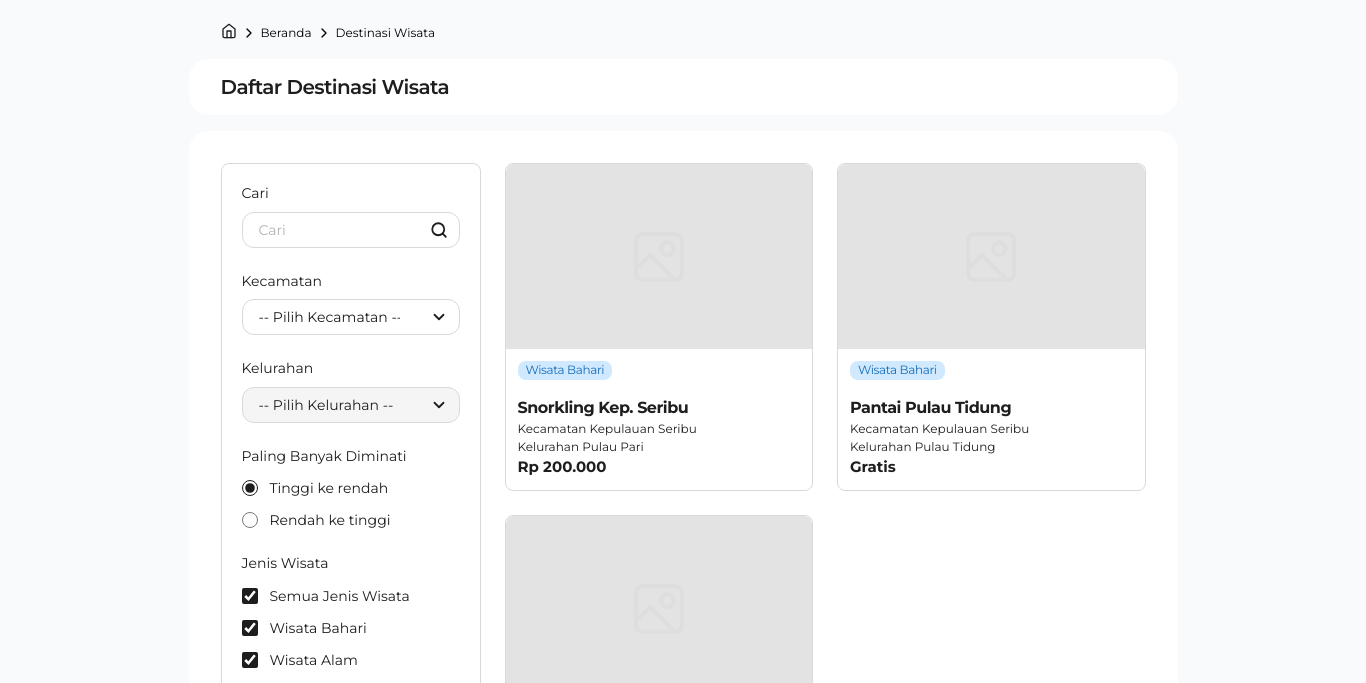
Test: PublicWisataListView › "Bersihkan Filter" resets every filter to its default
The width and height of the screenshot is (1366, 683).
Step 1. Type "gua" into the search field with test id "public-list-search" → (350, 230), box 242,212 -> 460,248
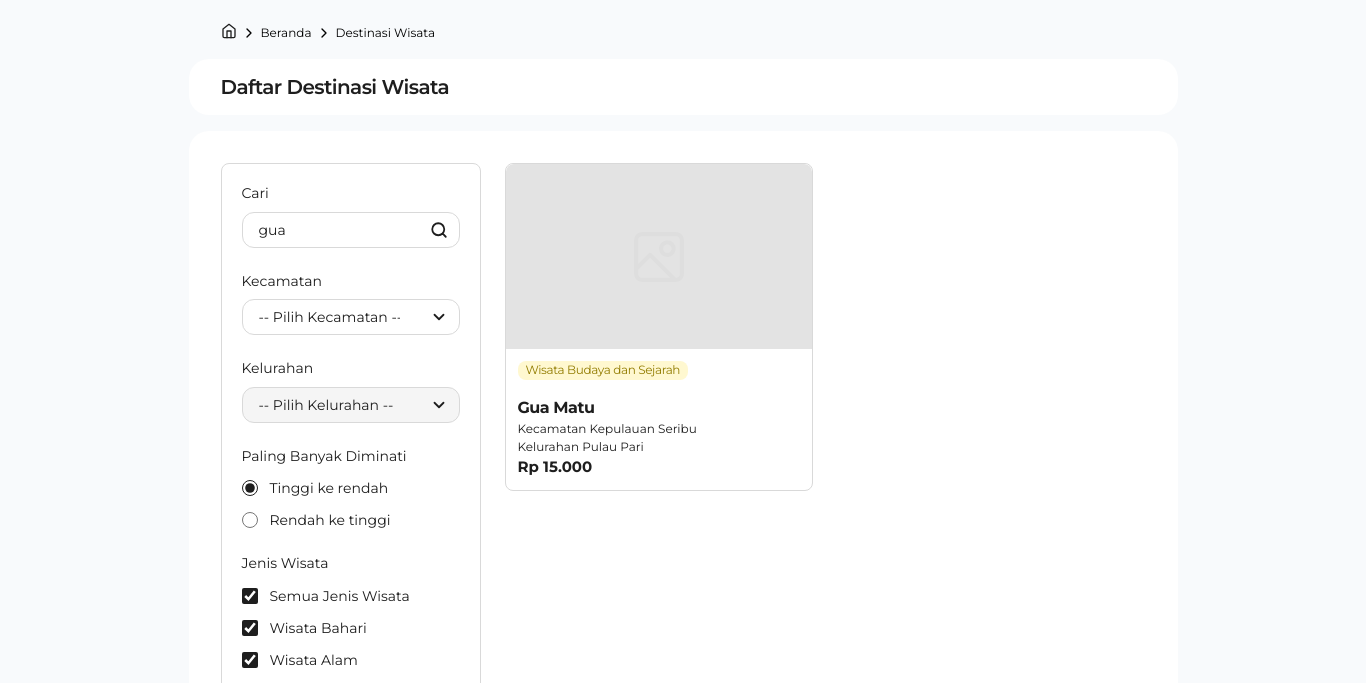
Step 2. Type "Pesisir Tengah" into the field with test id "public-list-kecamatan" → (350, 317), box 242,299 -> 460,335
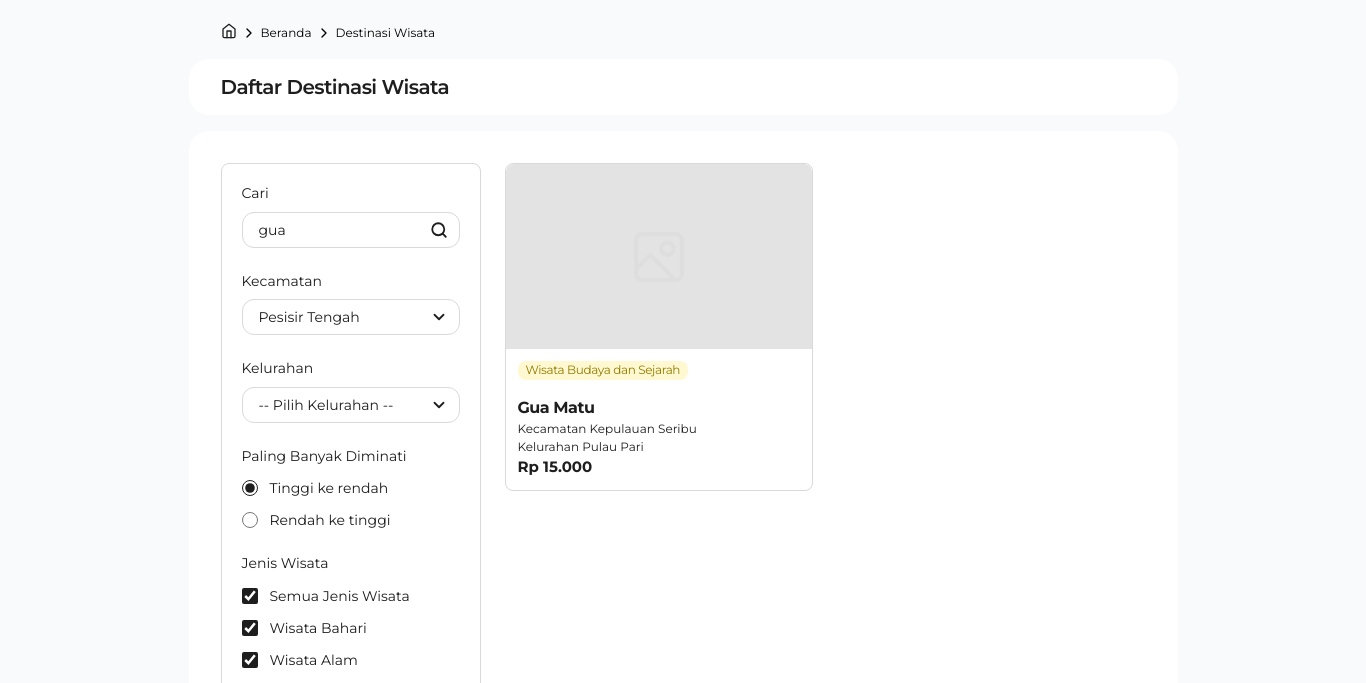
Step 3. Click the radio button with test id "public-list-popularity-asc" → (250, 520), box 242,512 -> 258,528
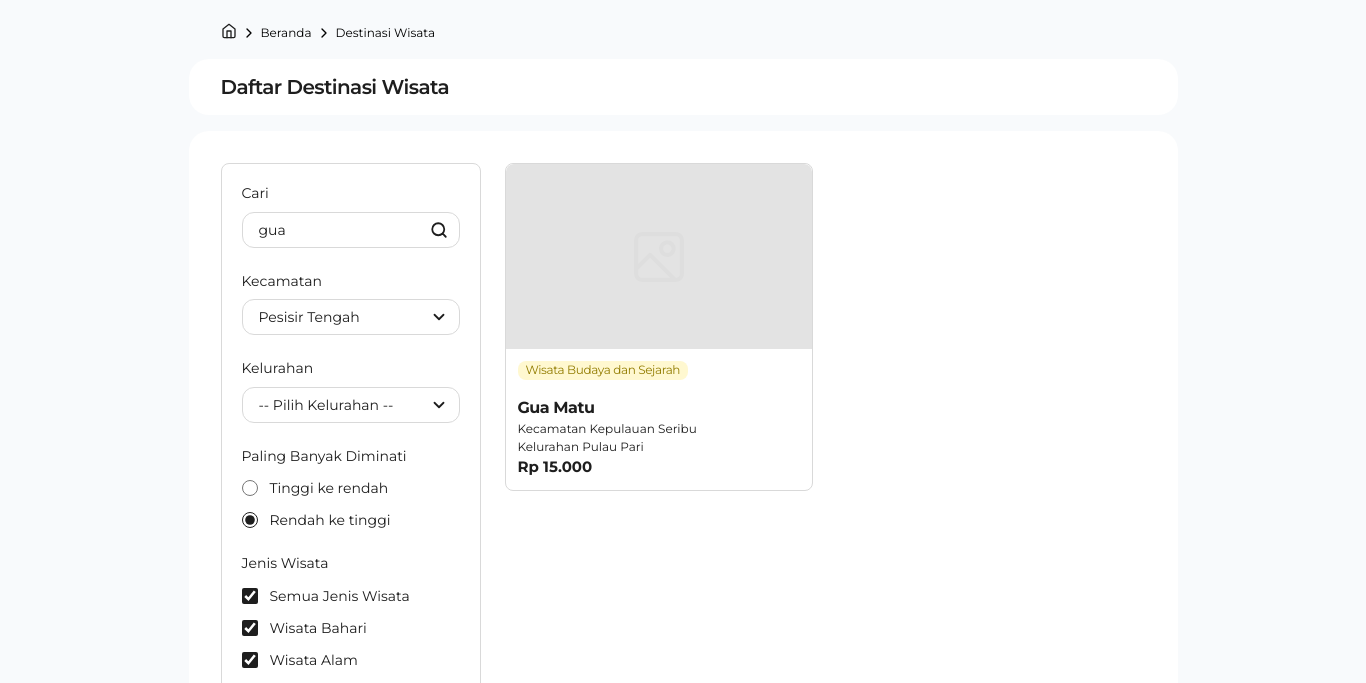
Step 4. Click the checkbox with test id "public-list-type-wisata_alam" → (250, 660), box 242,652 -> 258,668
(page scrolled)
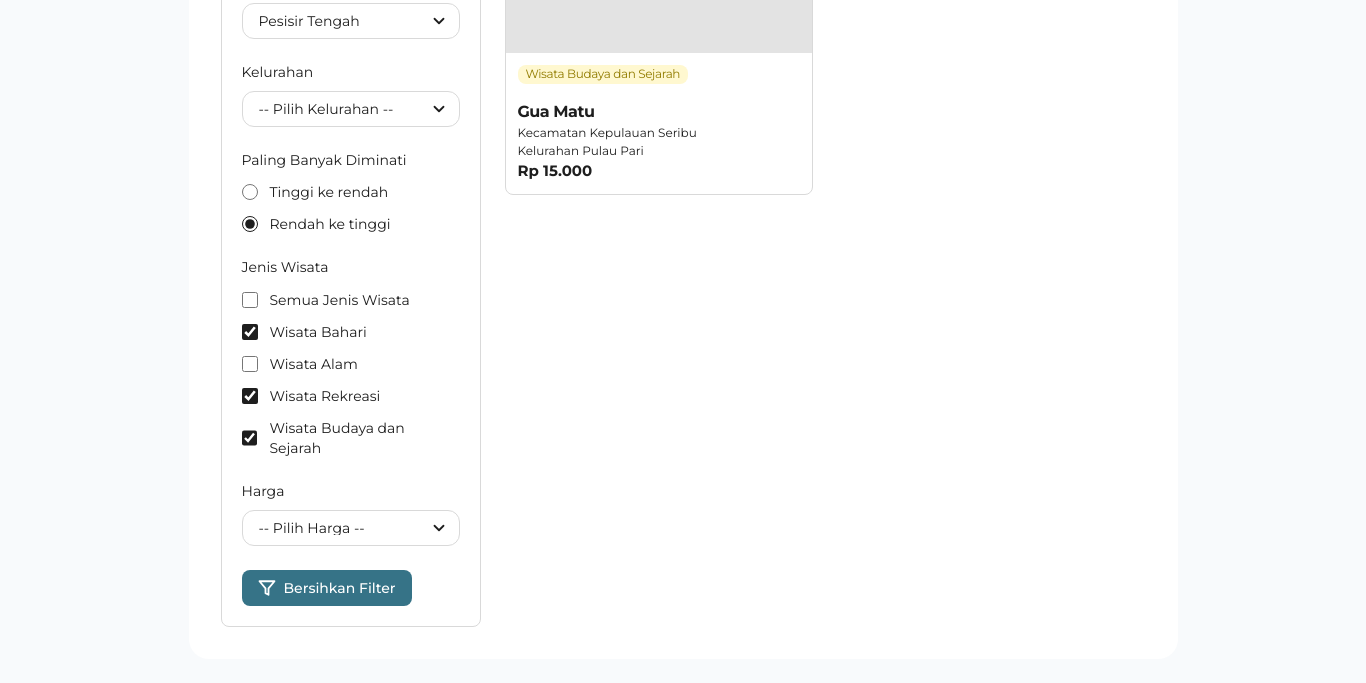
Step 5. Select "< Rp 50.000" in the dropdown with test id "public-list-harga" → (350, 528), box 242,510 -> 460,546
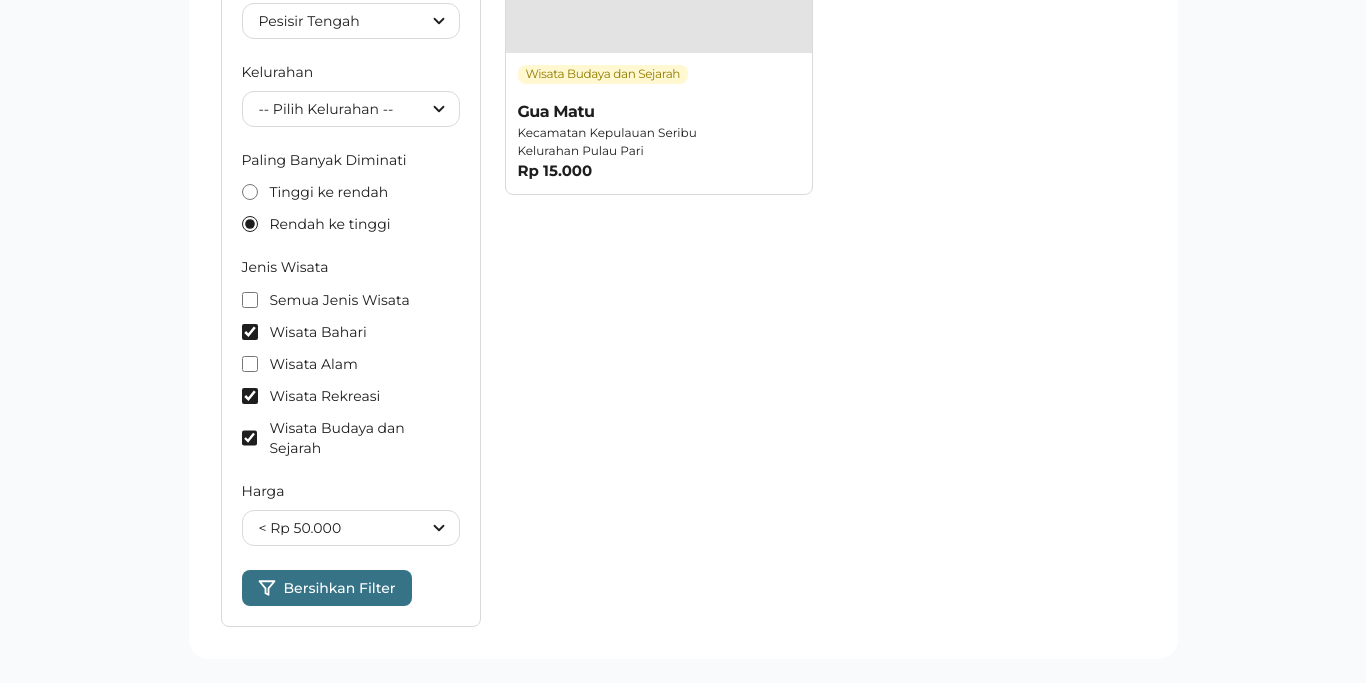
Step 6. Click the button with test id "public-list-clear" → (326, 588), box 242,570 -> 412,606
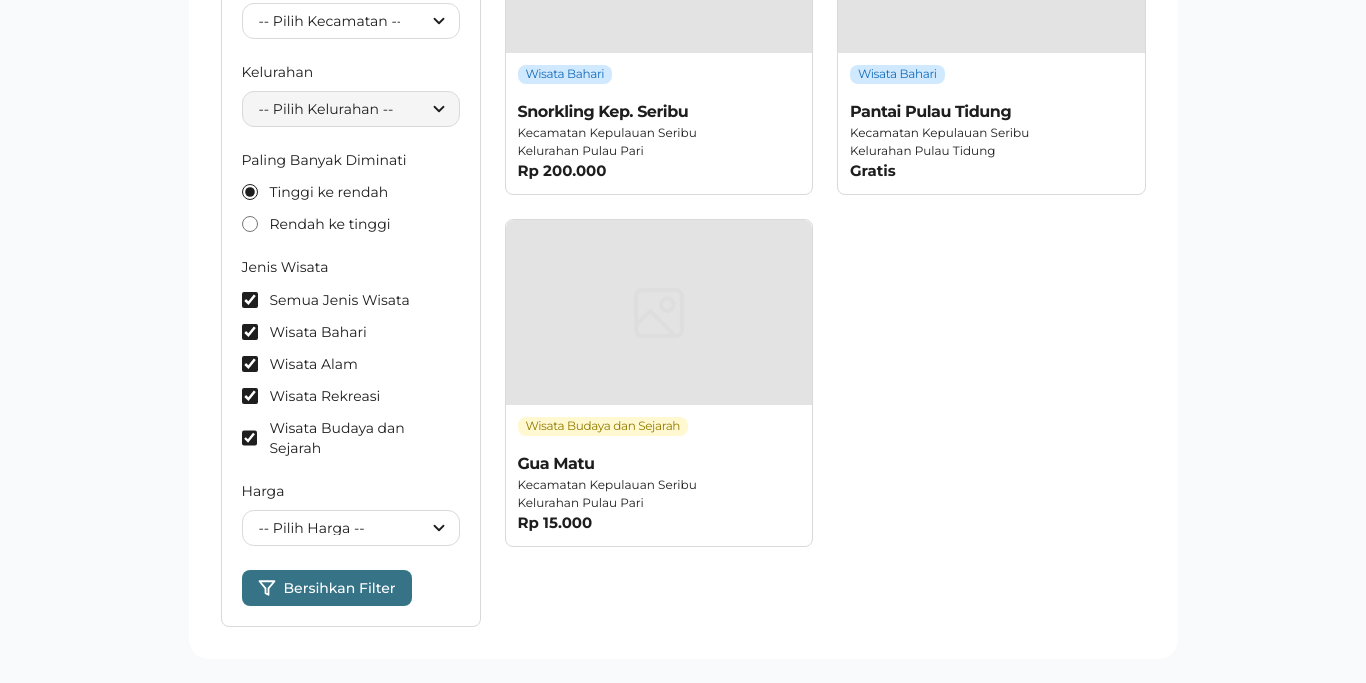
expect the field with test id "public-list-kecamatan" is empty: met, box 242,3 -> 460,39
expect the radio button with test id "public-list-popularity-desc" is checked: met, box 242,184 -> 258,200
expect the checkbox with test id "public-list-type-all" is checked: met, box 242,292 -> 258,308
